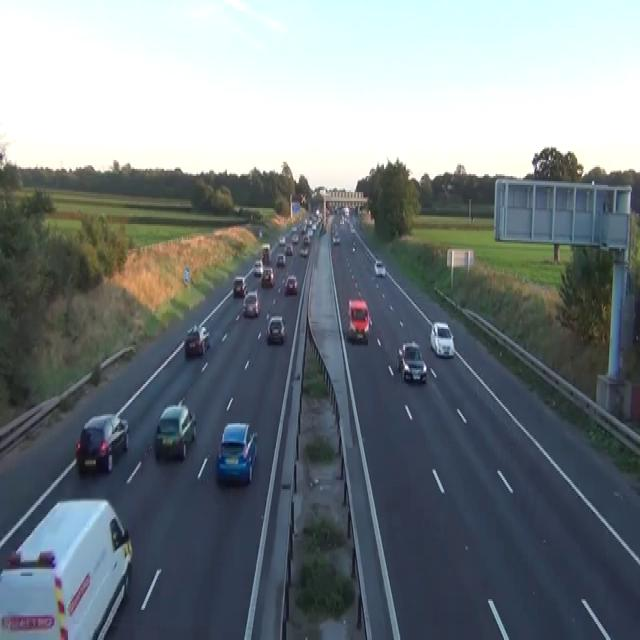Car: (75, 412, 129, 474), (216, 422, 257, 486), (154, 400, 196, 460), (396, 340, 427, 382), (347, 297, 371, 343), (184, 323, 210, 358), (429, 322, 454, 357), (266, 315, 285, 343), (242, 290, 259, 316), (233, 275, 247, 297), (284, 274, 298, 293), (261, 267, 274, 286), (200, 326, 210, 348), (374, 260, 386, 278), (253, 258, 263, 276), (276, 252, 285, 266), (299, 245, 308, 256), (315, 208, 322, 220), (285, 244, 293, 254), (332, 233, 340, 243), (291, 233, 299, 242), (278, 235, 285, 245), (349, 222, 355, 233), (303, 234, 310, 243), (300, 194, 306, 204), (339, 215, 344, 224), (291, 226, 297, 233), (258, 228, 262, 238), (352, 240, 355, 252)
Truck: (0, 496, 132, 638)
